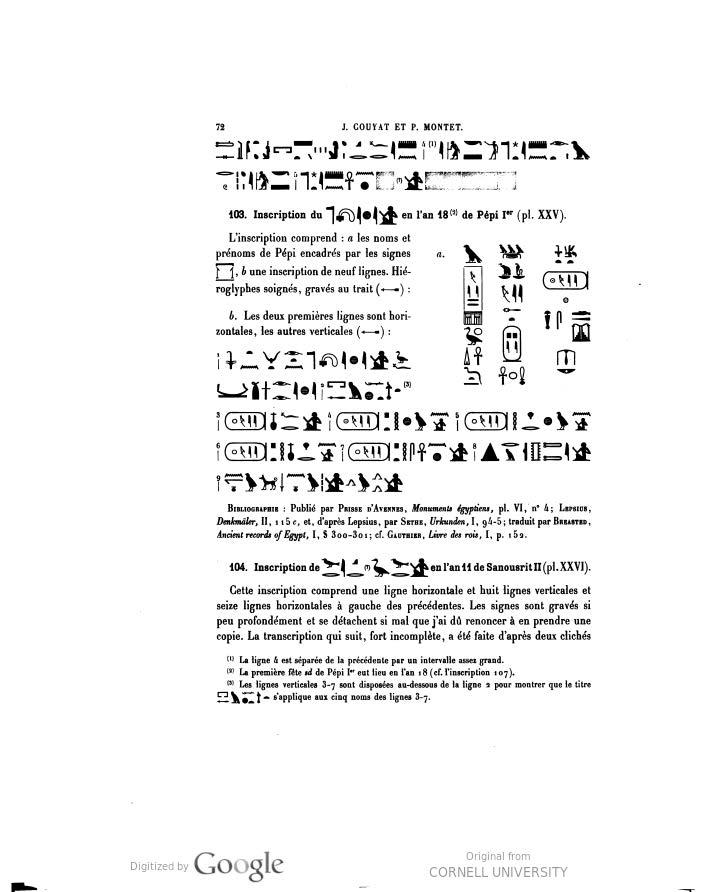circle: (493, 319, 539, 375), (208, 435, 293, 464), (454, 404, 522, 438), (216, 402, 280, 438), (331, 403, 394, 437), (527, 267, 608, 293), (342, 438, 399, 466)
